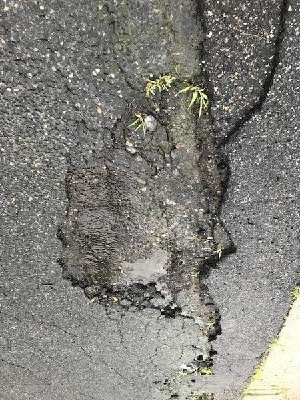pothole: (53, 71, 241, 370)
